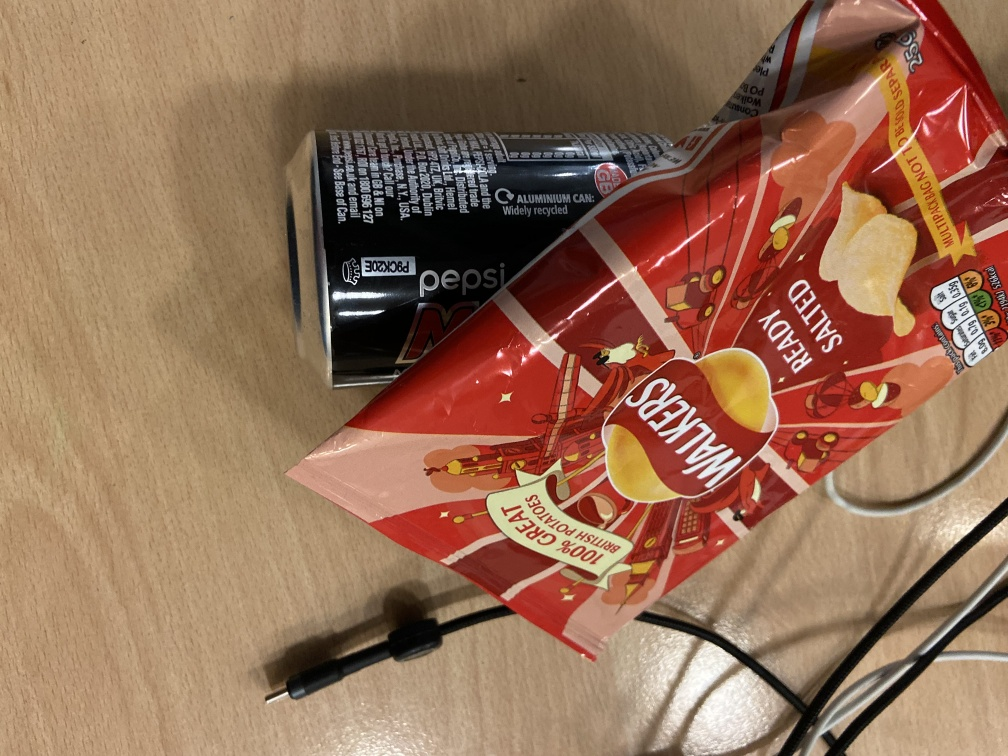can_black: (284, 127, 683, 391)
